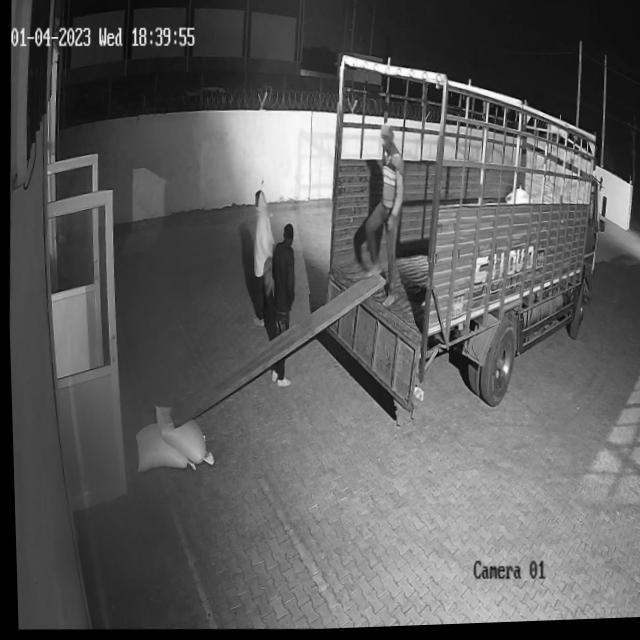sack: (149, 402, 205, 467), (131, 422, 188, 474)
